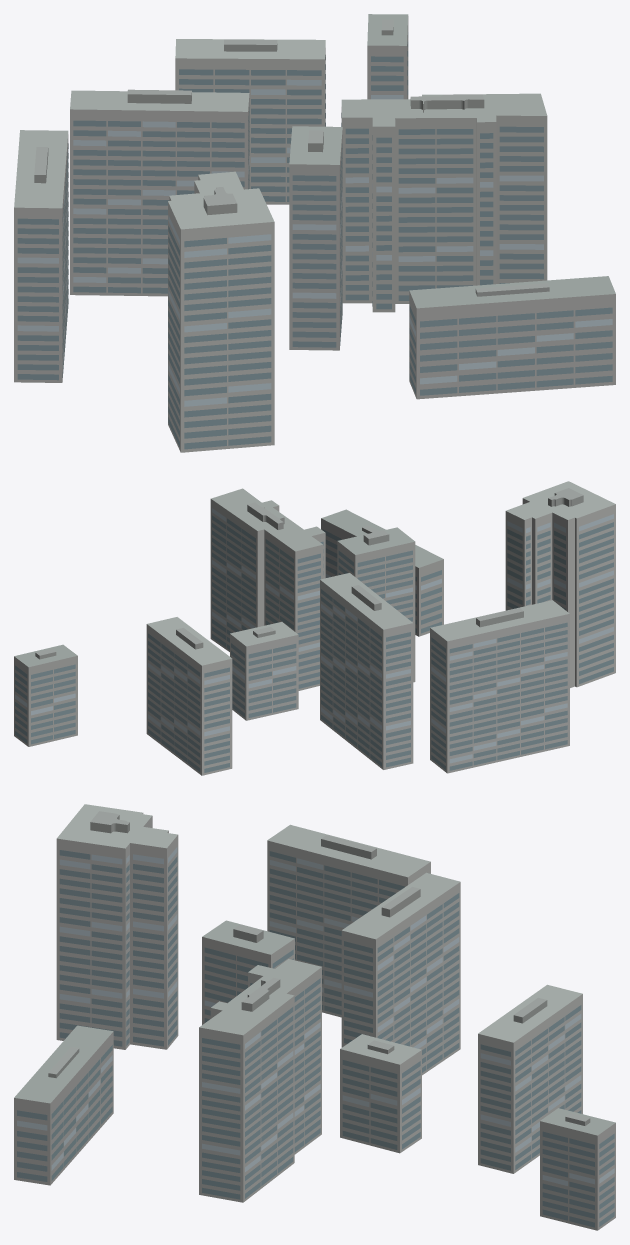
The model's file is apt-a15004403.glb.
3 renders of one model, top to bottom at view 1: azimuth 30°, elevation 25°; view 2: azimuth 150°, elevation 25°; view 3: azimuth 270°, elevation 25°, orthographic. The views are drawn at different scales.
Parts seen in each view (by area): view 1: apt-a15004403; view 2: apt-a15004403; view 3: apt-a15004403.
Boxes of the visible parts, <box> form: apt-a15004403: <box>14,14,615,452</box>; apt-a15004403: <box>14,481,615,775</box>; apt-a15004403: <box>14,804,615,1230</box>.
Size of the model in its own units: 155 by 61 by 159.
